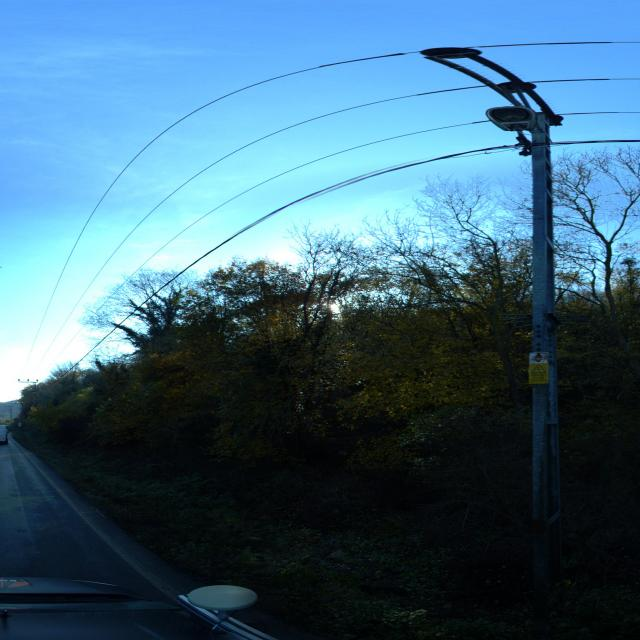Utility Pole Information Plate: (527, 351, 552, 389)
